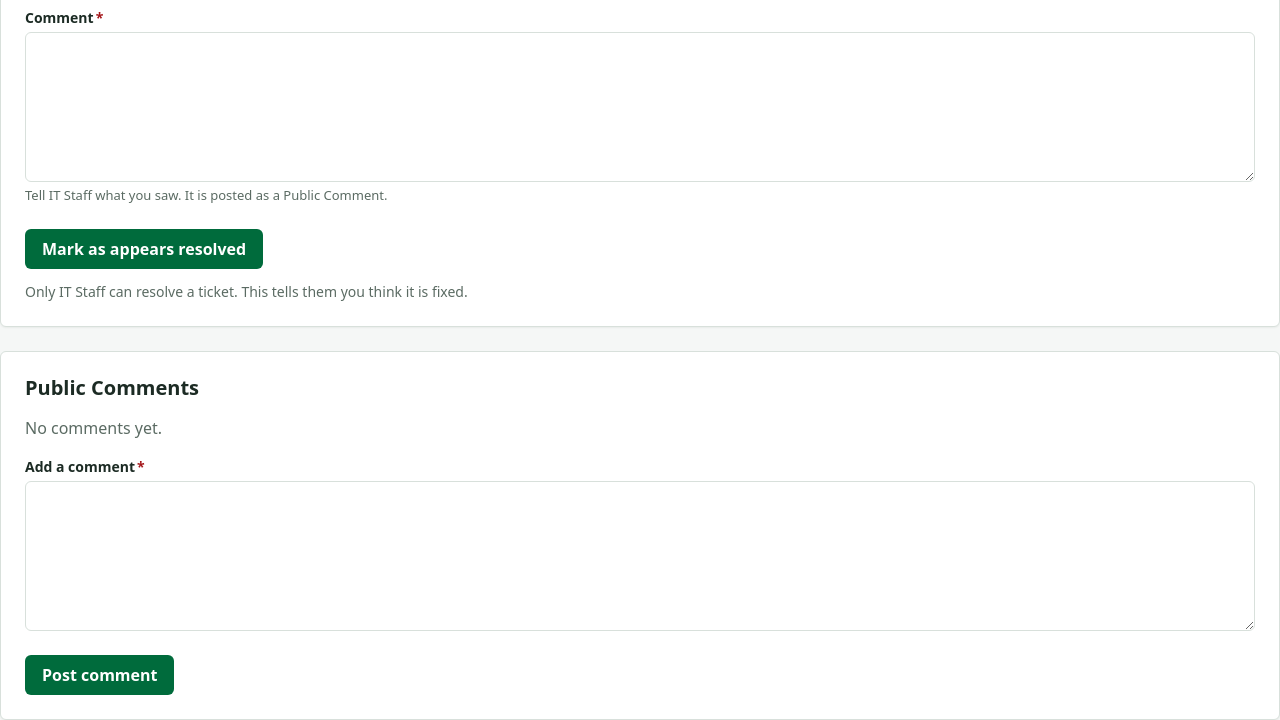
Scenario: UI-10 Public Comments thread › keeps the draft and shows the server's reason when posting fails
The image size is (1280, 720).
(page scrolled)
Type "Hello there" into the text box labelled "Add a comment*" at (640, 556), box 25,481 -> 1255,631
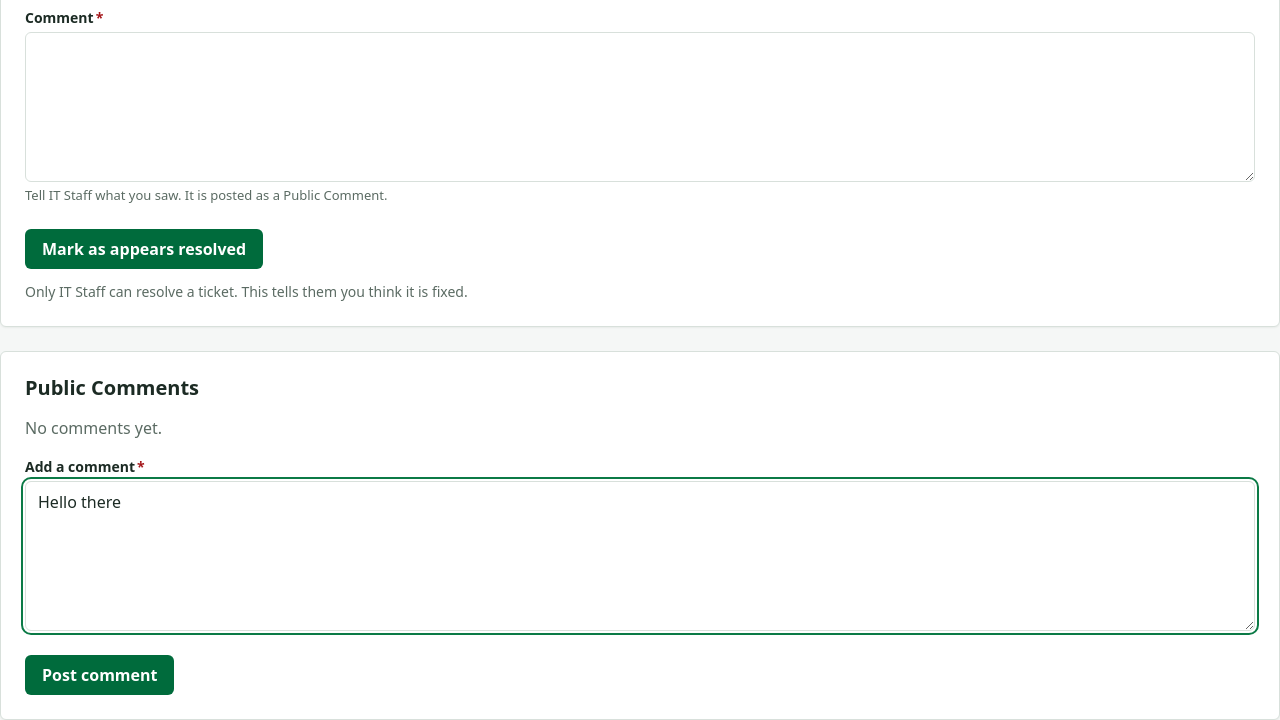
Click the button "Post comment" at (100, 675), box 25,655 -> 174,695
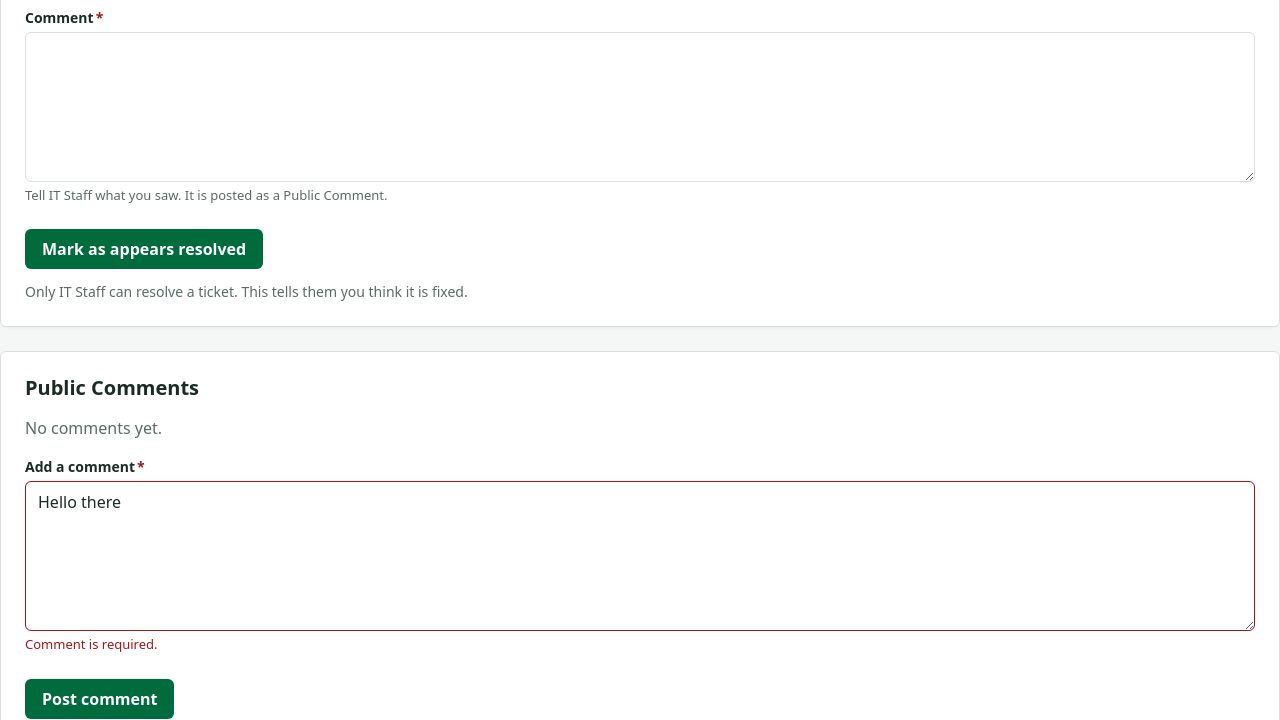
Expected: the text "Comment is required." is shown, 25,635 -> 158,653
